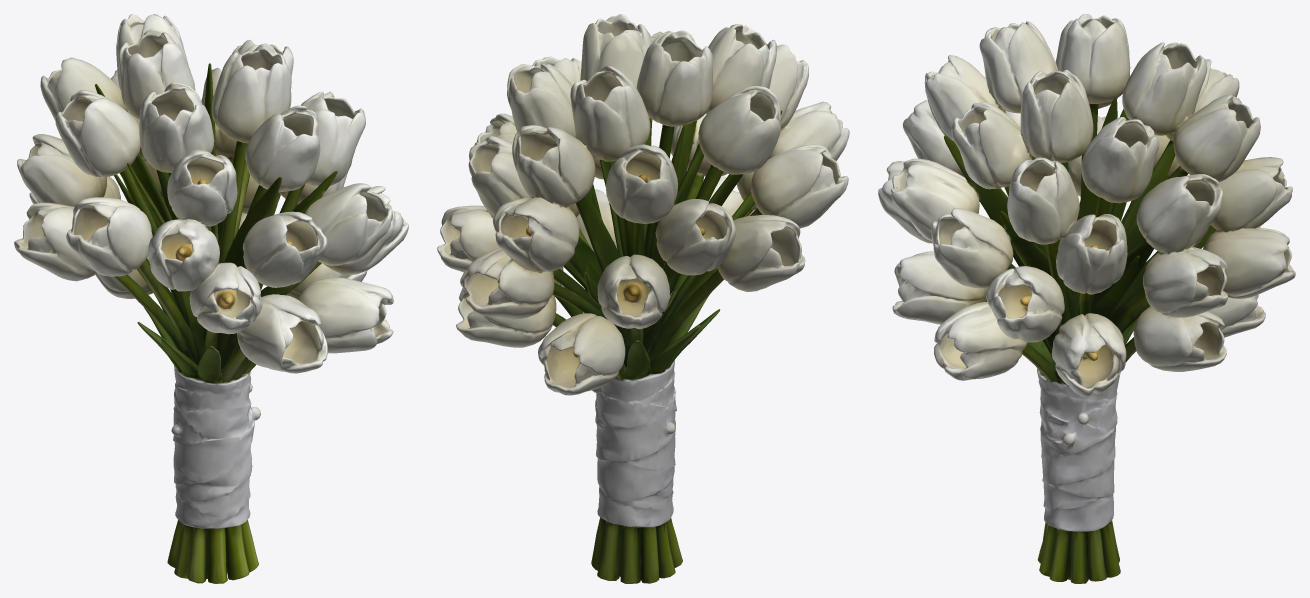
File: round__tulip-white.glb
3 renders of one model, left to right at view 1: azimuth 30°, elevation 25°; view 2: azimuth 150°, elevation 25°; view 3: azimuth 270°, elevation 25°, orthographic. The views are drawn at different scales.
Parts seen in each view (by area): view 1: tripo_node_73167dbf-8f62-4b7d-8b13-002cf895f1fc; view 2: tripo_node_73167dbf-8f62-4b7d-8b13-002cf895f1fc; view 3: tripo_node_73167dbf-8f62-4b7d-8b13-002cf895f1fc.
Part boxes in pixels (box(x1,y1,x2,y2)): tripo_node_73167dbf-8f62-4b7d-8b13-002cf895f1fc: box(14, 14, 408, 583); tripo_node_73167dbf-8f62-4b7d-8b13-002cf895f1fc: box(437, 14, 849, 583); tripo_node_73167dbf-8f62-4b7d-8b13-002cf895f1fc: box(878, 14, 1295, 583).
Bounding box in the file's own units: 0.6577 × 1 × 0.7118.
1 material, 1 textured.
